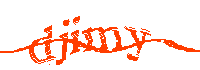d: (29, 26, 55, 65)
i: (71, 17, 81, 54)
j: (57, 18, 69, 68)
m: (82, 27, 122, 54)
y: (124, 24, 150, 63)
